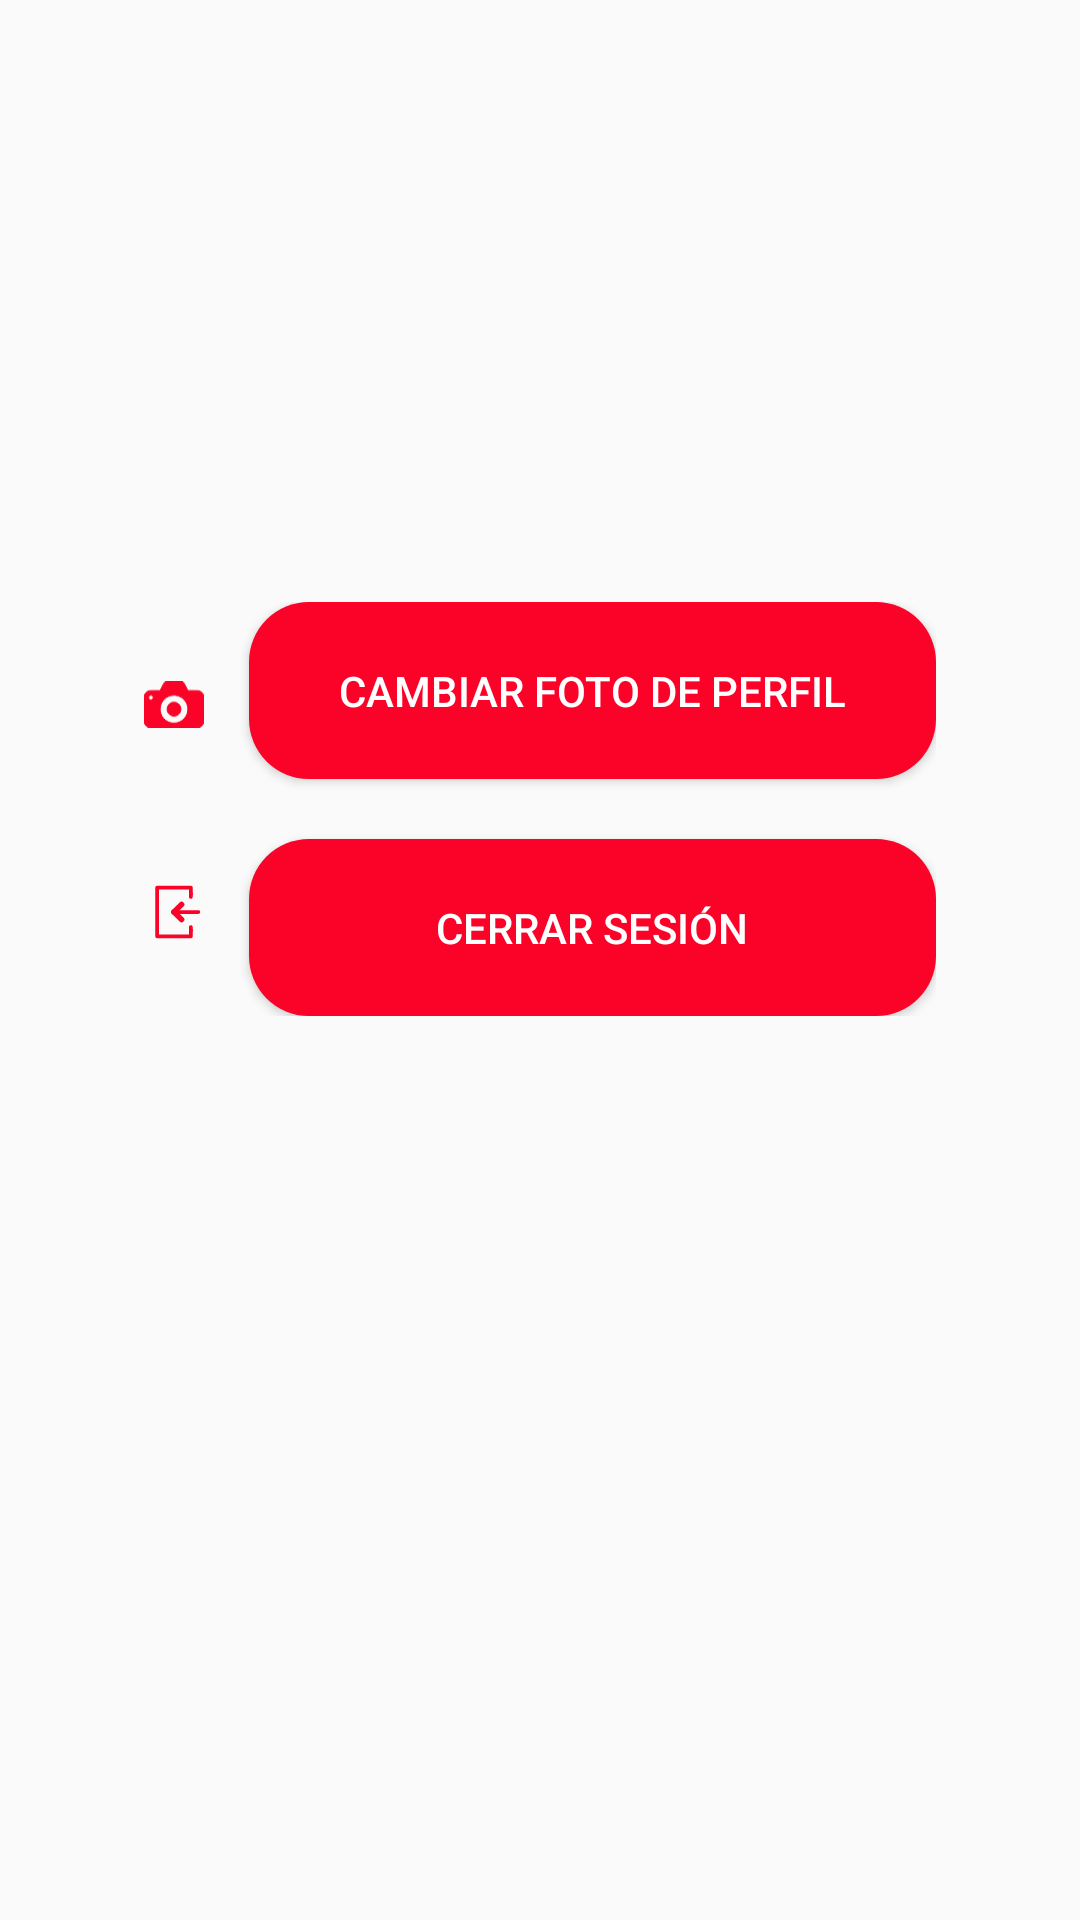

Named icons in this screenshot (1080px x 1920px) and their bounding boxes, (x1, y1, x2, y2):
login sign in: (155, 885, 200, 939)
